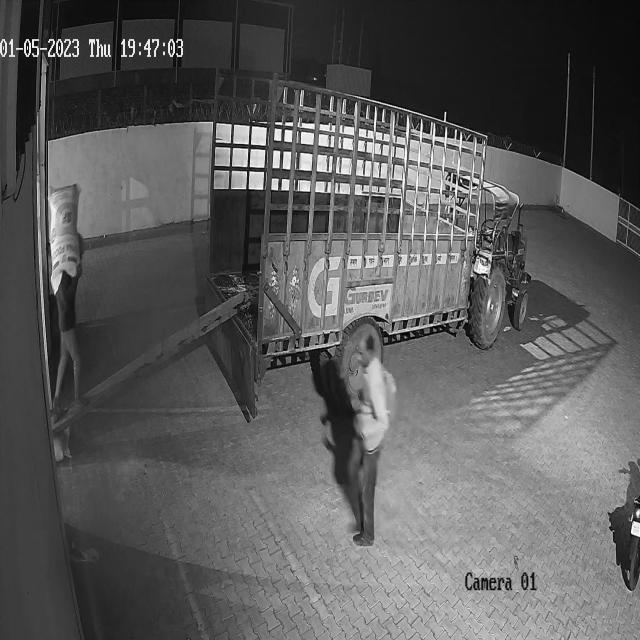sack: (49, 186, 81, 294)
